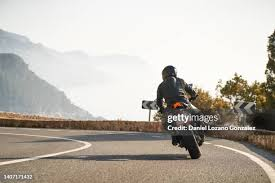motorcycle: (153, 91, 206, 158)
